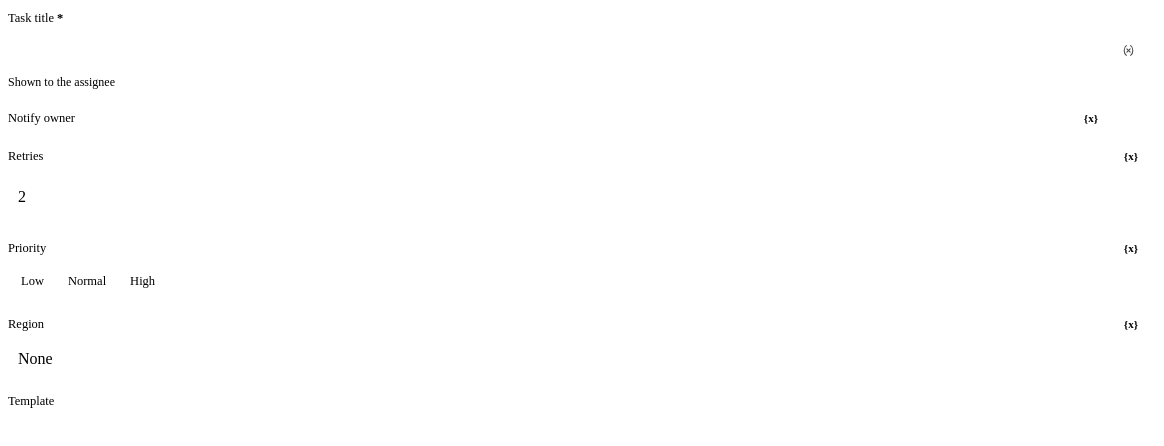
Test case: SchemaForm › a number that isn't one is flagged and not written
This screenshot has width=1164, height=446.
Replace the text in the field labelled "Retries" with "1.5": (580, 197) 8,173 -> 1152,221
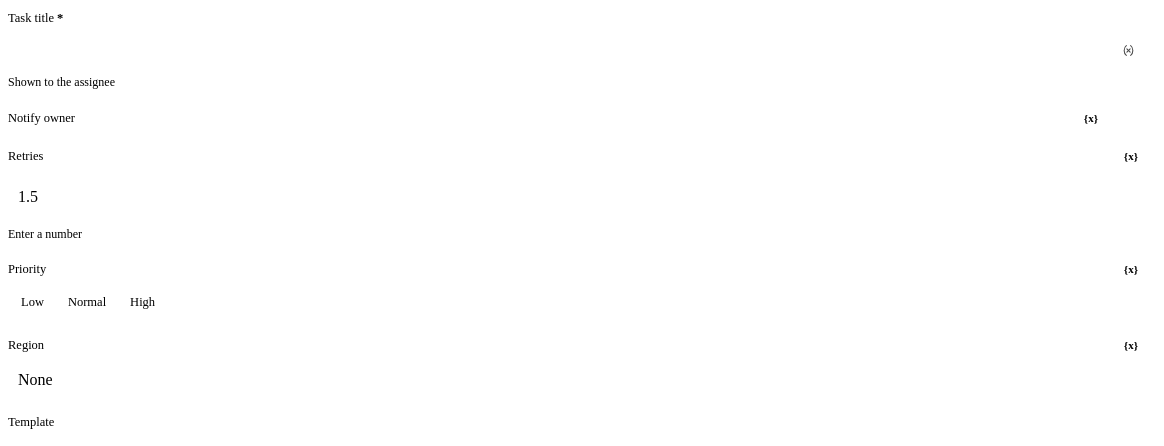
Expected: the text "Enter a number" is shown, 8,227 -> 82,241
